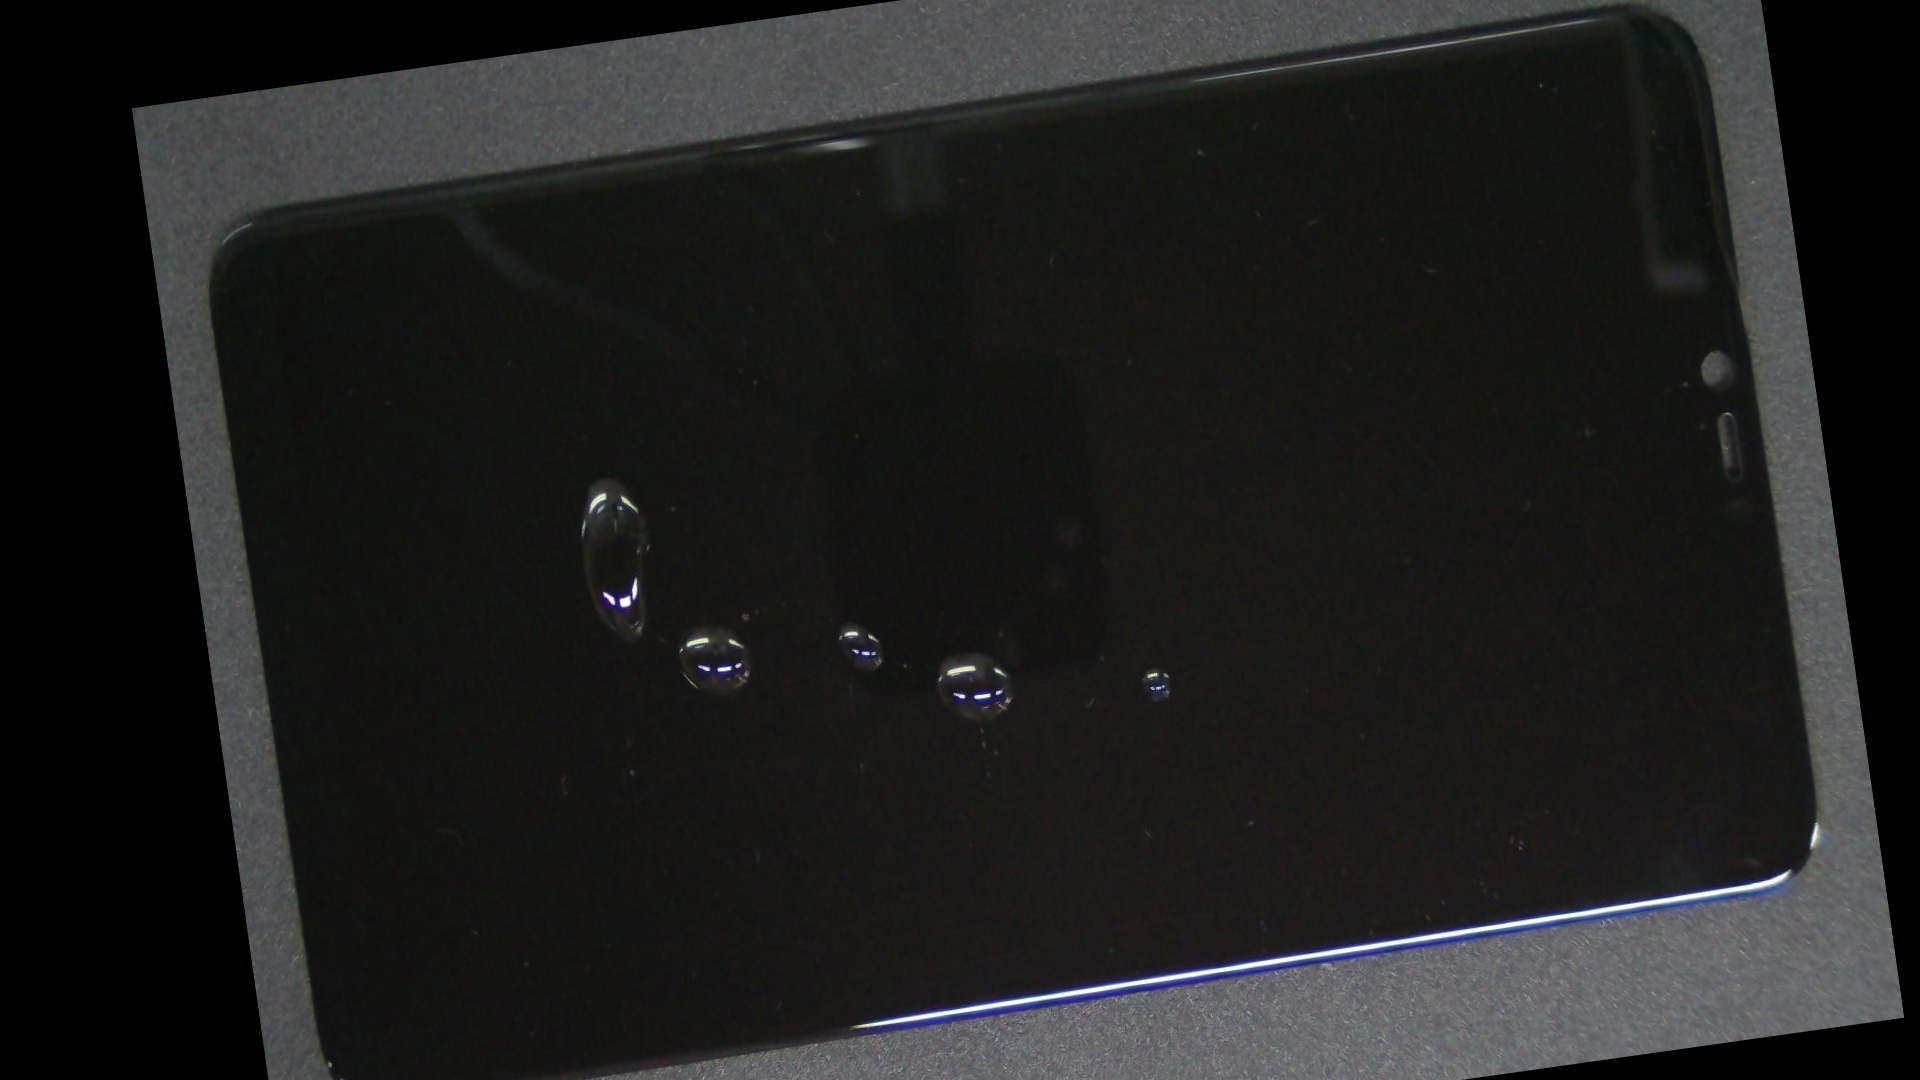oil: (642, 257, 1663, 1077), (545, 277, 1370, 1031), (491, 276, 1207, 967), (421, 295, 997, 951), (367, 236, 835, 723)
